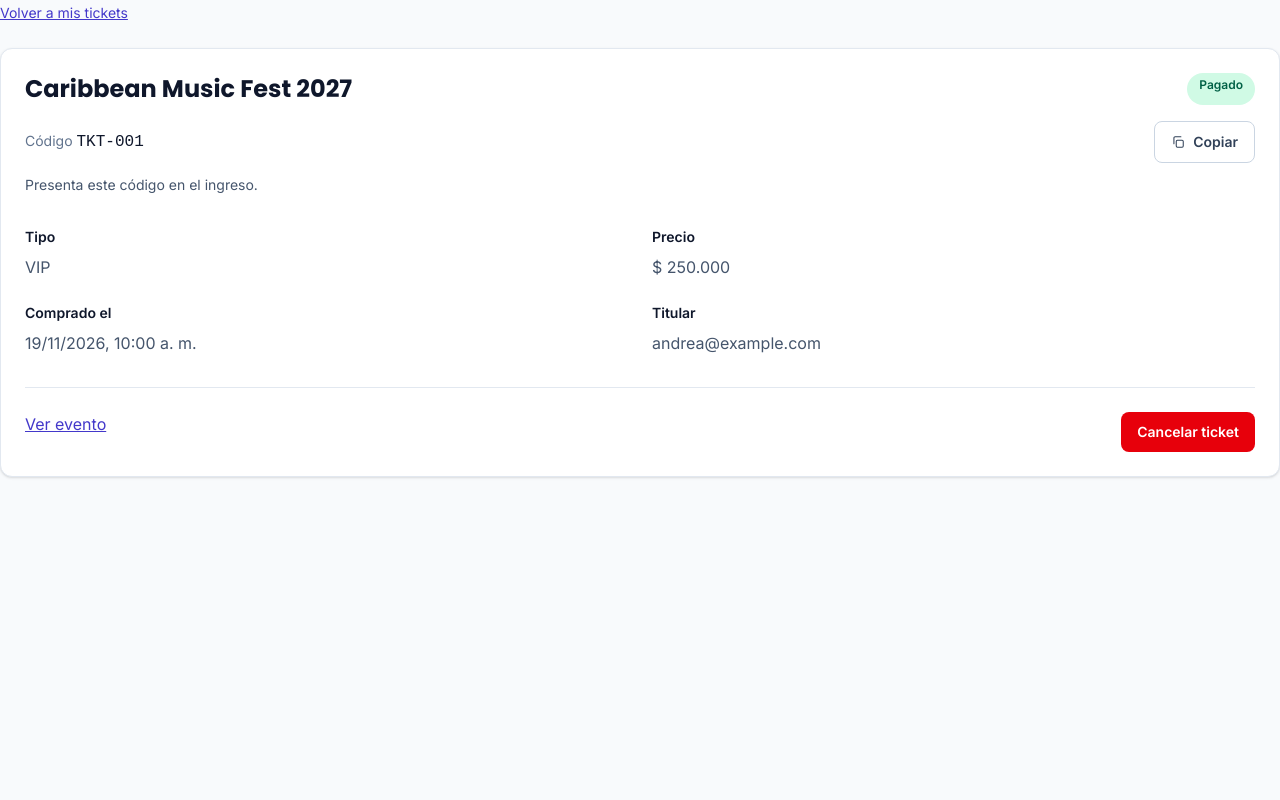
Test: cancelar ticket conserva modal ante 409
This screenshot has width=1280, height=800.
Click the button "Cancelar ticket": (1188,432) x1=1121 y1=412 x2=1255 y2=452
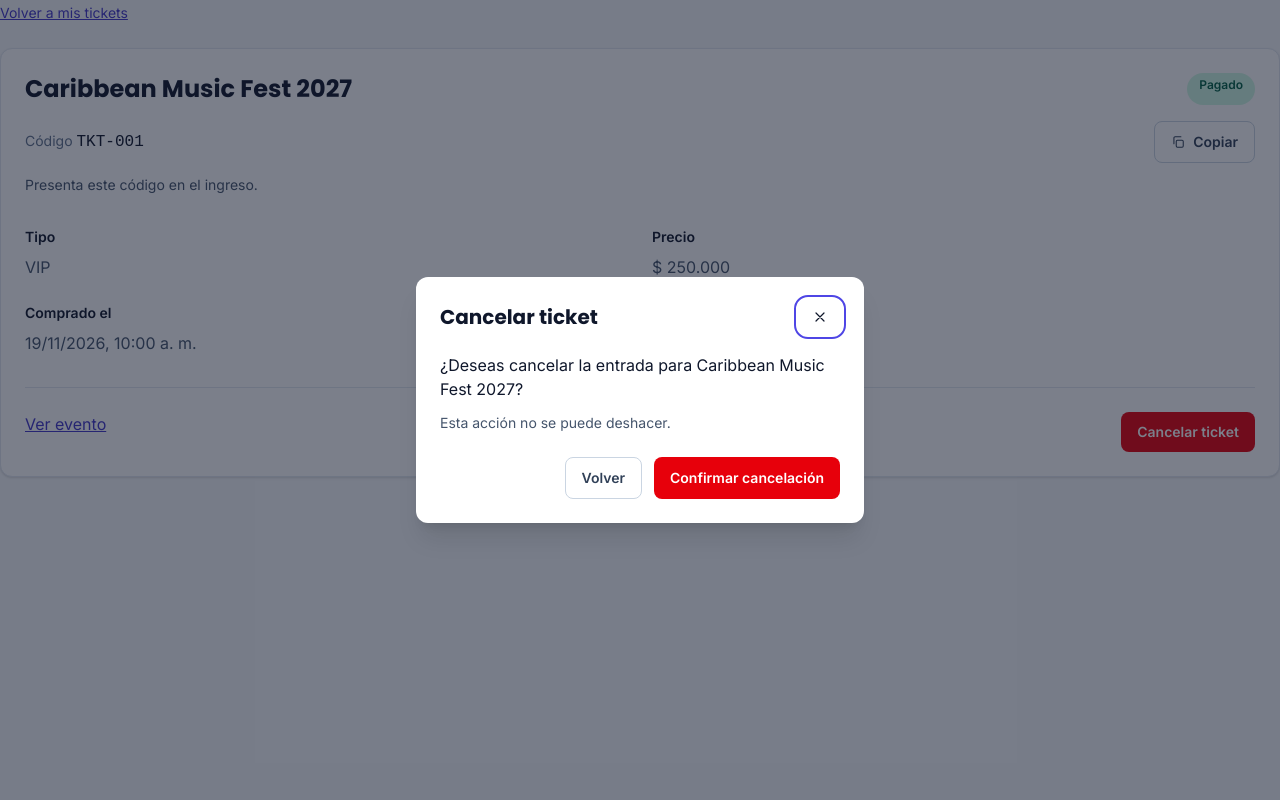
Click the button "Confirmar cancelación": (747,478) x1=654 y1=457 x2=840 y2=499
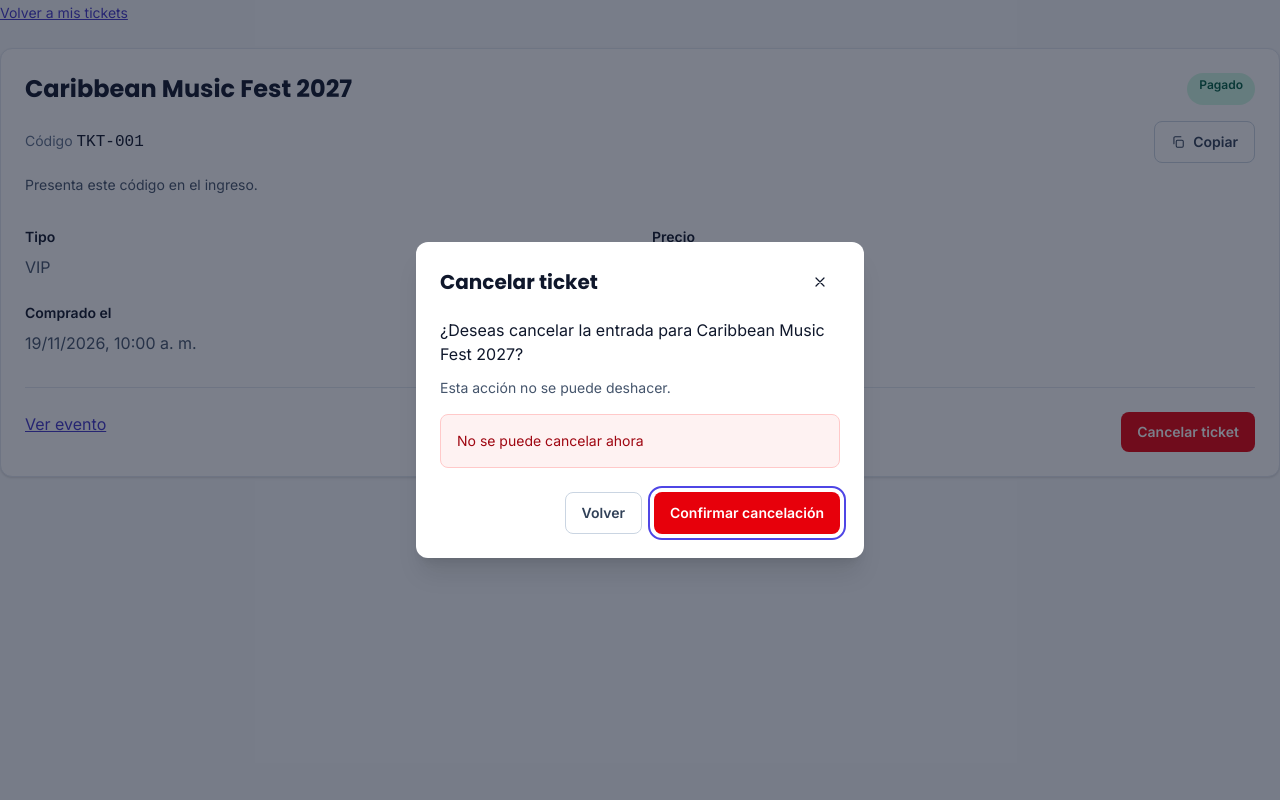
Now the dialog is shown, box x1=416 y1=242 x2=864 y2=558
Now the text "No se puede cancelar ahora" is shown, box x1=440 y1=414 x2=840 y2=468
